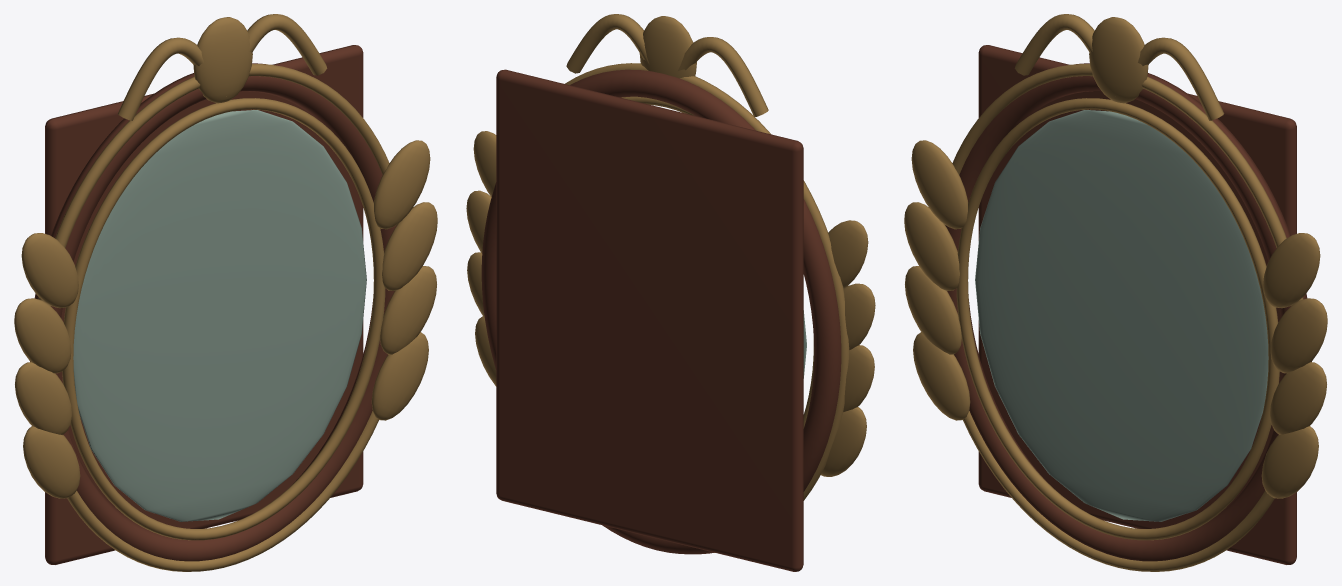
The model's file is mirror.glb.
The picture shows the model from 3 angles, left to right: view 1: azimuth 30°, elevation 25°; view 2: azimuth 150°, elevation 25°; view 3: azimuth 330°, elevation 25°; orthographic projection. The views are drawn at different scales.
Visible parts, largest first — view 1: mirror__Silvered_glass, mirror__Aged_brass, mirror__Dark_mahogany; view 2: mirror__Dark_mahogany, mirror__Aged_brass; view 3: mirror__Silvered_glass, mirror__Aged_brass, mirror__Dark_mahogany.
Boxes of the visible parts, x1,y1,x2,y2 form: mirror__Silvered_glass: (73, 110, 366, 521); mirror__Aged_brass: (14, 14, 437, 571); mirror__Dark_mahogany: (30, 45, 396, 564); mirror__Dark_mahogany: (481, 69, 841, 571); mirror__Aged_brass: (466, 14, 875, 552); mirror__Silvered_glass: (975, 110, 1268, 521); mirror__Aged_brass: (904, 14, 1327, 571); mirror__Dark_mahogany: (945, 45, 1311, 564).
Size of the model in its own units: 1.04 by 1.3 by 0.1335.
